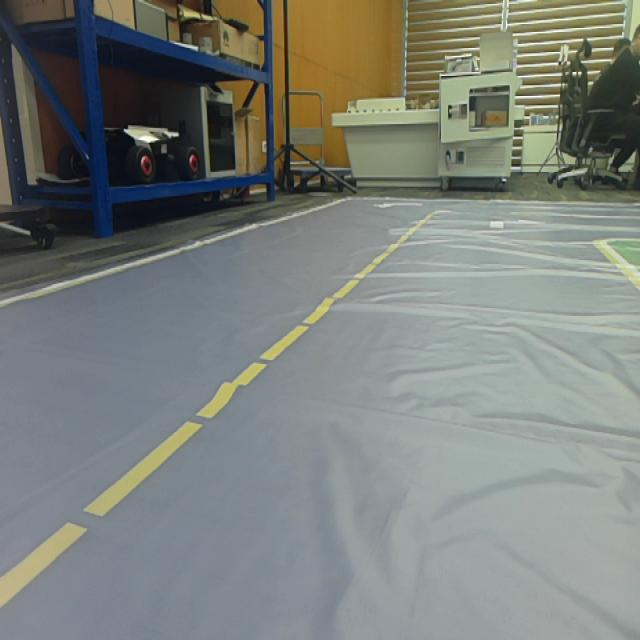left_lane: (0, 213, 430, 610)
right_lane: (594, 244, 640, 291)
